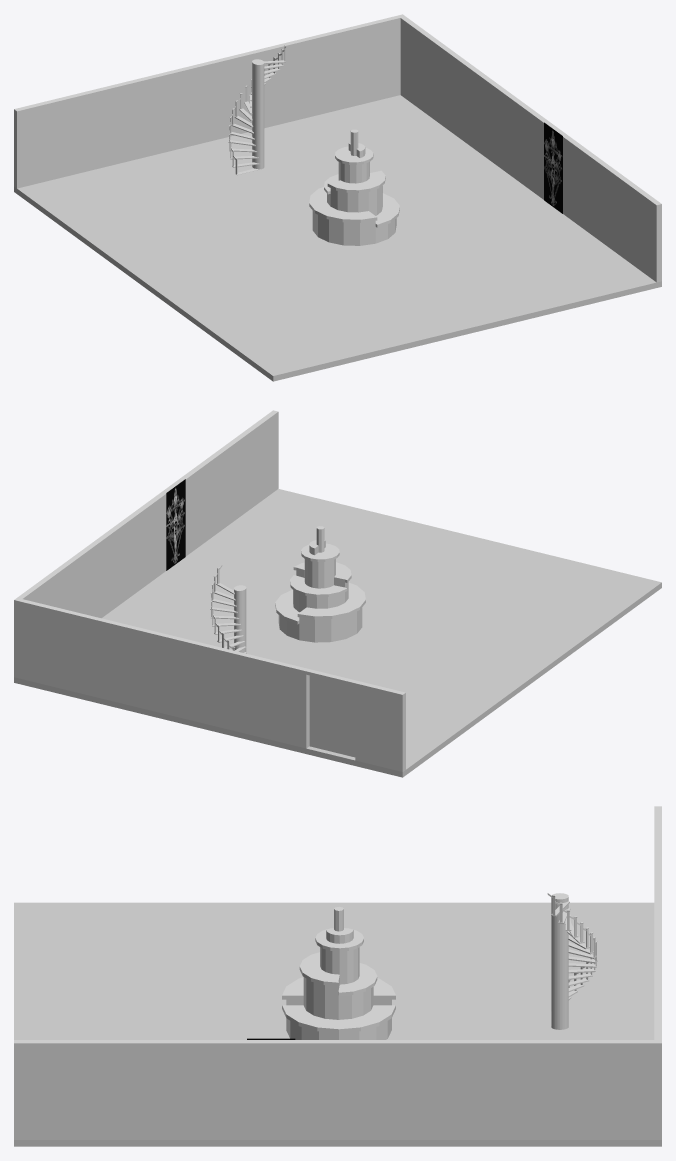
Rendered from Level-5.fbx.
3 renders of one model, top to bottom at view 1: azimuth 30°, elevation 25°; view 2: azimuth 150°, elevation 25°; view 3: azimuth 270°, elevation 25°, orthographic. The views are drawn at different scales.
Parts seen in each view (by area): view 1: Layout, Altar, StairCase, Plane, Pole; view 2: Layout, Altar, Plane, StairCase, Pole; view 3: Layout, Altar, Pole, StairCase.
Part boxes in pixels (box(x1,y1,x2,y2)): Layout: box(14, 14, 661, 381); Altar: box(309, 129, 399, 245); StairCase: box(228, 45, 286, 174); Plane: box(544, 122, 562, 213); Pole: box(252, 59, 264, 169); Layout: box(14, 410, 661, 777); Altar: box(275, 526, 365, 642); Plane: box(166, 479, 185, 570); StairCase: box(210, 565, 246, 653); Pole: box(234, 585, 246, 652); Layout: box(14, 806, 661, 1146); Altar: box(282, 907, 395, 1039); Pole: box(551, 893, 568, 1029); StairCase: box(547, 893, 597, 1026).
Bounding box in the file's own units: 2189 × 667 × 2528.
Materials: 3 (1 with a texture image).
